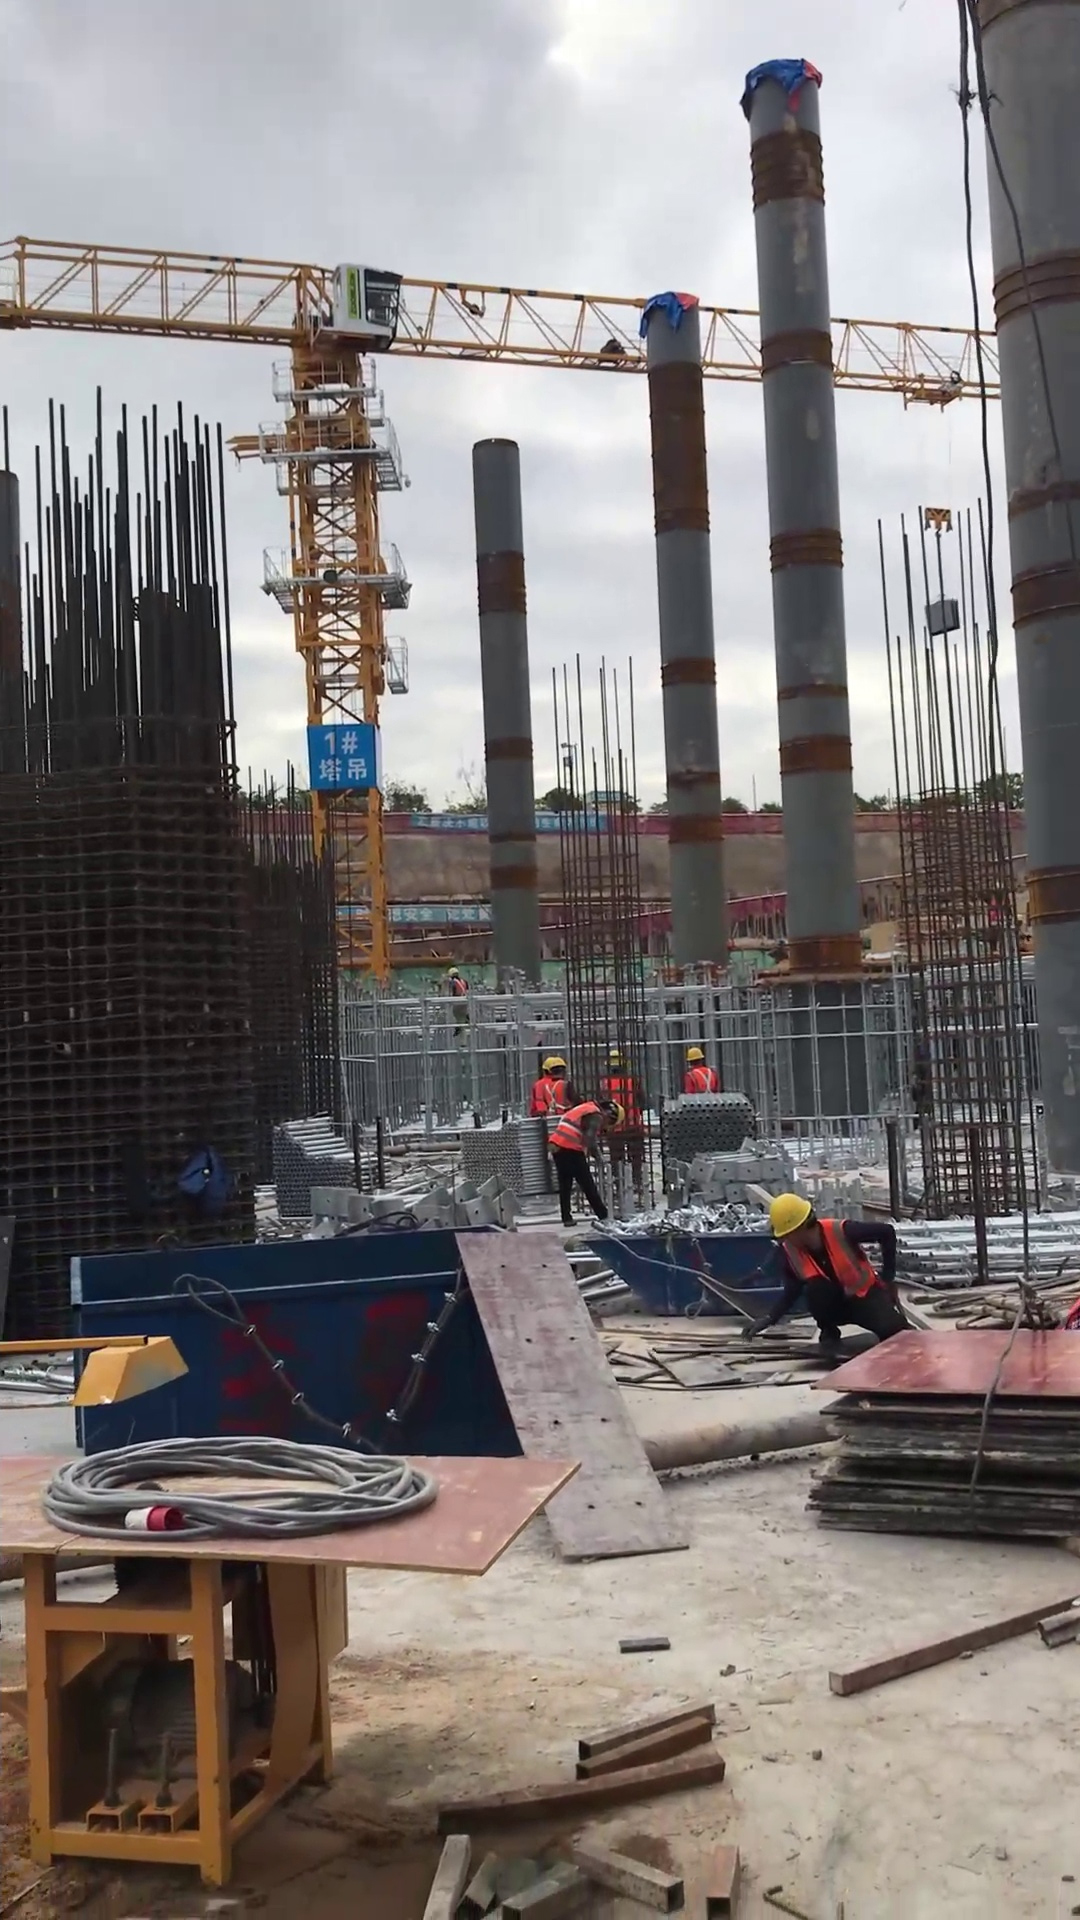board: (802, 1324, 1080, 1560)
cutter: (1, 1441, 566, 1911)
helmet: (760, 1185, 824, 1244), (536, 1051, 571, 1083), (611, 1094, 635, 1131), (680, 1042, 707, 1068), (440, 963, 469, 983)
hook: (918, 503, 959, 541)
hopper: (54, 1227, 535, 1470), (590, 1220, 785, 1315)
person: (735, 1182, 922, 1358), (550, 1089, 637, 1232), (525, 1044, 582, 1135), (664, 1035, 724, 1107), (432, 960, 480, 1036)
scaffold: (267, 1111, 390, 1226), (654, 1093, 762, 1169), (464, 1118, 547, 1211)
slogan: (383, 902, 501, 926), (412, 809, 492, 833)
vest: (783, 1217, 887, 1310), (547, 1099, 603, 1160), (529, 1075, 575, 1125), (680, 1065, 721, 1097), (447, 981, 475, 1013)
